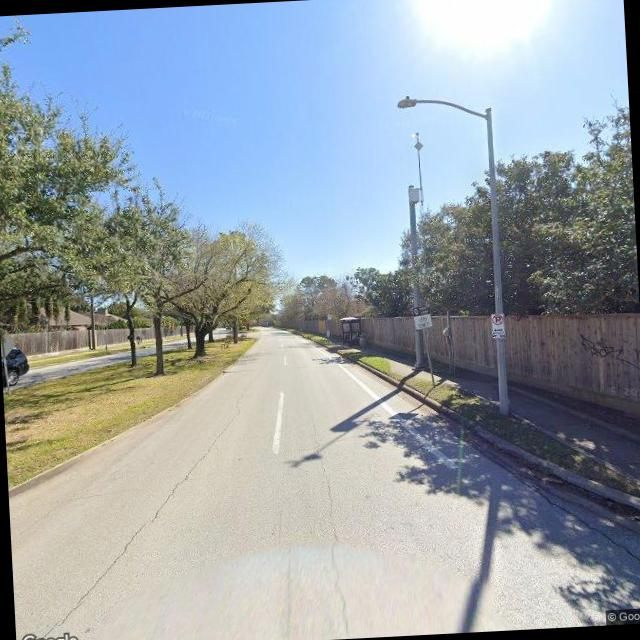pothole: (36, 406, 251, 636), (306, 420, 354, 632)
